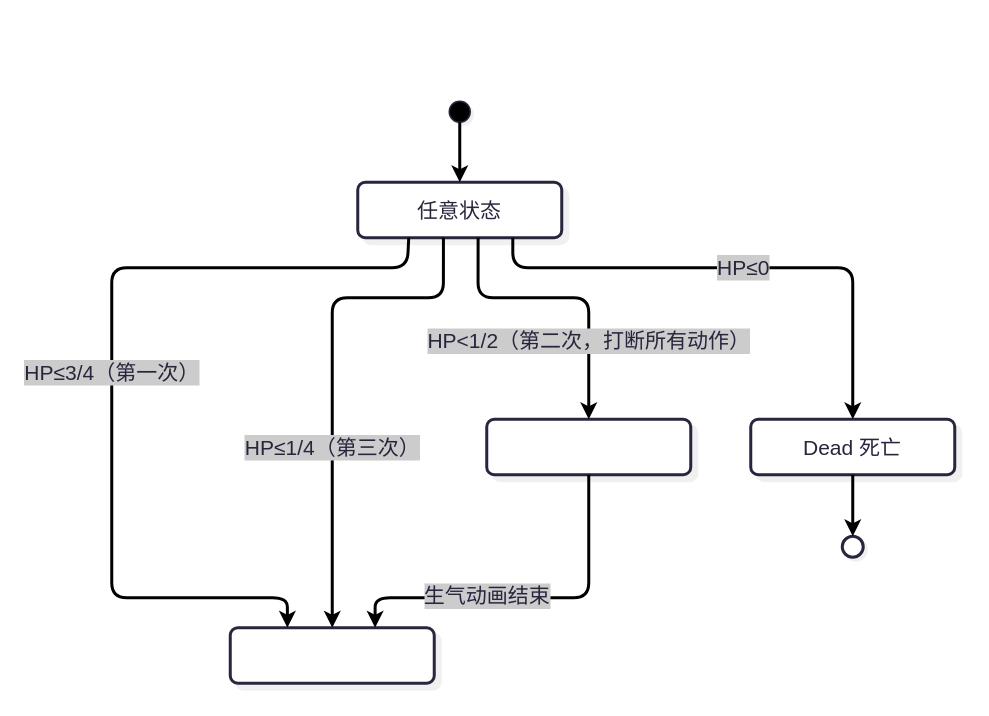
This 989x716 diagram has some shape labels left out. The shapes that lost their labels are listed below. From the top down, each one's centre as x and y in pixels, then its label:
At (591,449): "Angry 生气".
At (334,658): "Split 分裂".
